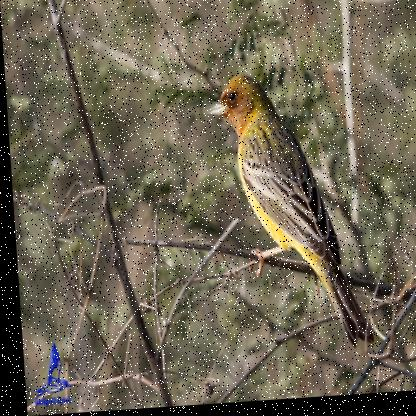Burung: (205, 77, 367, 358)
